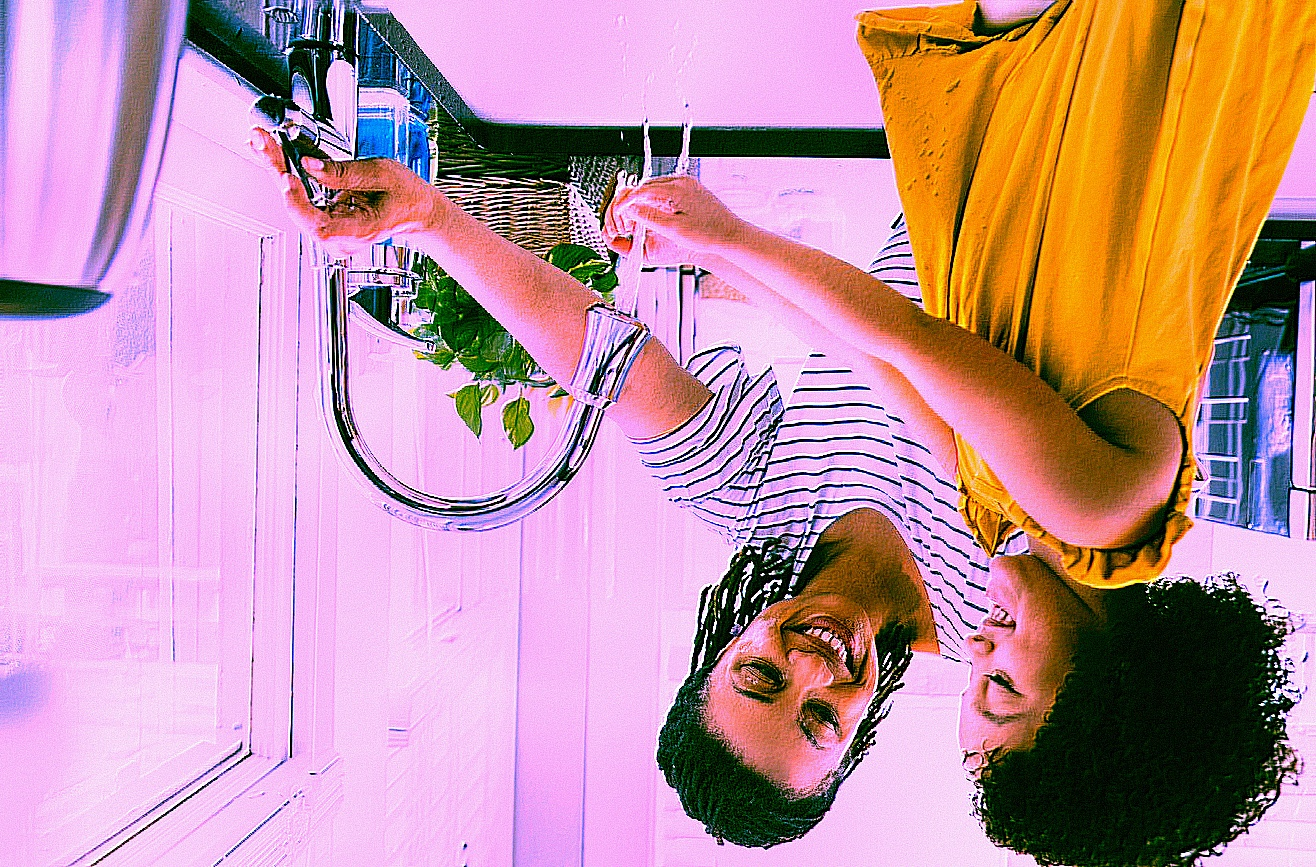washing hand: (245, 27, 709, 589)
